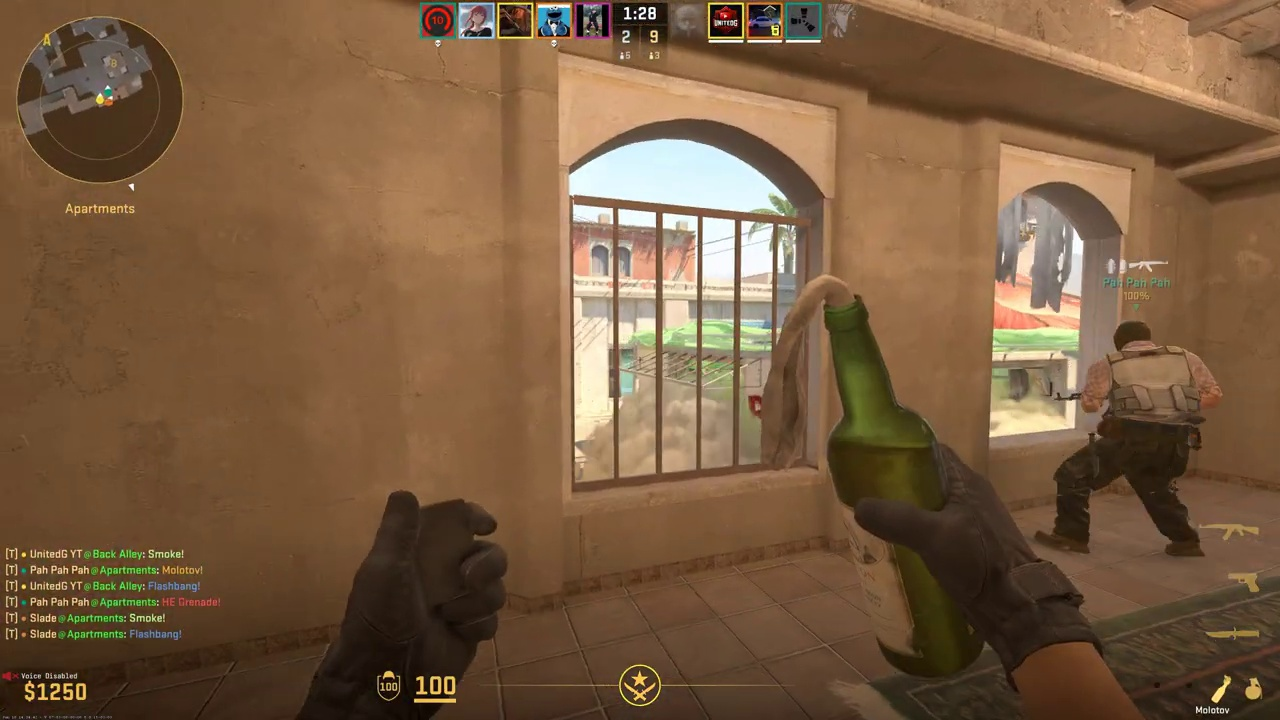Terrorist: (1058, 319, 1209, 558)
